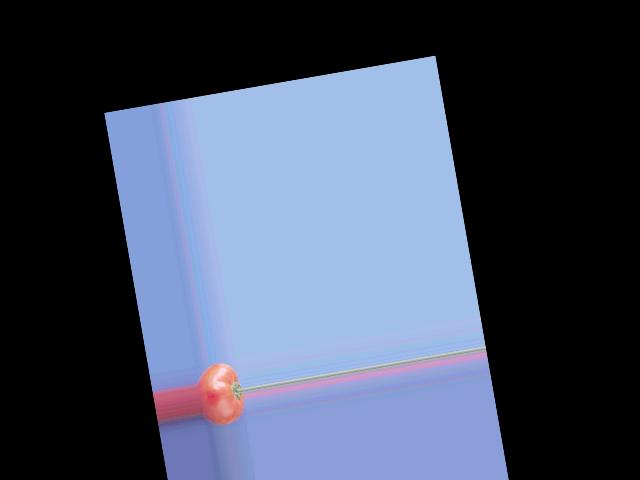tomato: (193, 360, 248, 429)
